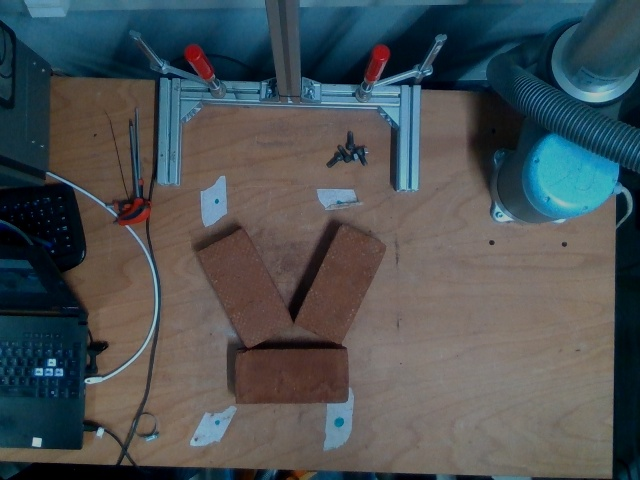brick: (196, 230, 291, 349), (297, 224, 386, 343), (236, 350, 344, 402)
